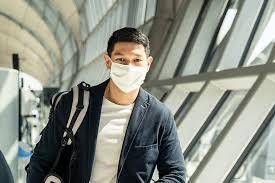mask: (108, 62, 149, 96)
